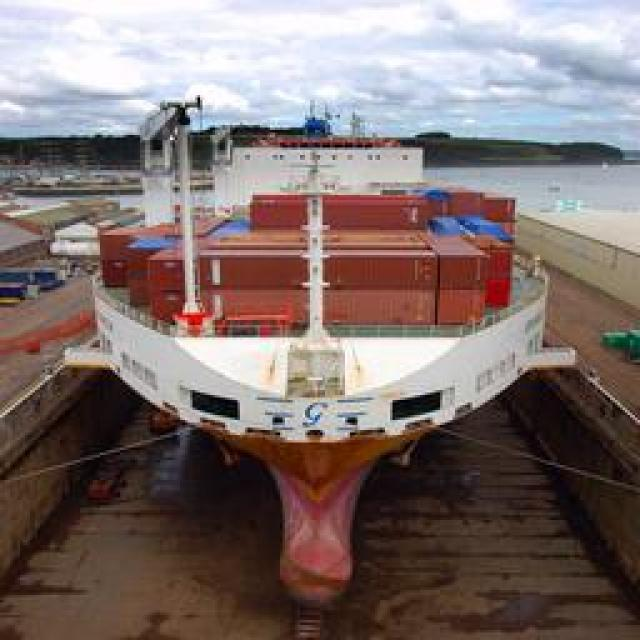ship2: (91, 112, 577, 639)
